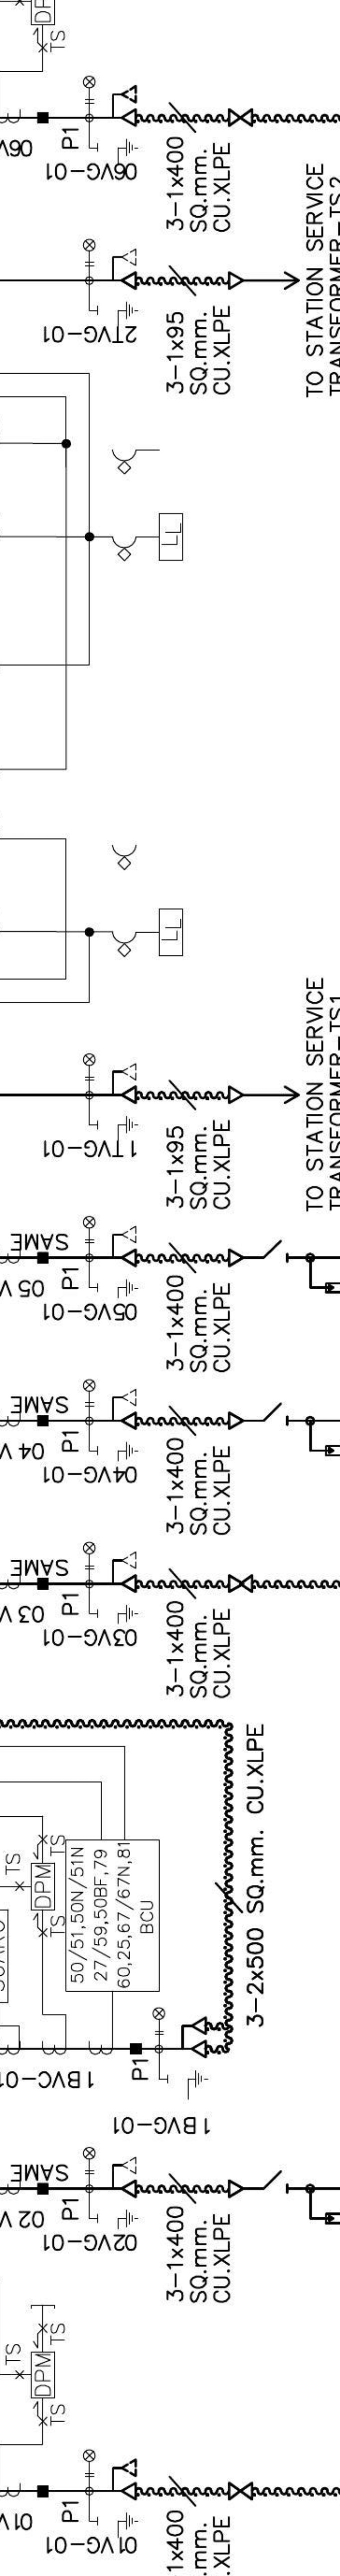22_gs: (166, 2068, 209, 2101), (95, 2510, 138, 2538), (95, 1115, 138, 1142), (97, 138, 140, 164), (97, 302, 140, 327), (95, 2208, 138, 2231), (95, 1603, 138, 1625), (95, 1441, 138, 1462), (95, 1280, 138, 1299)
22_ll: (82, 2146, 97, 2175), (82, 1541, 97, 1571), (82, 1216, 97, 1245), (82, 1051, 97, 1081), (82, 238, 97, 268), (82, 76, 97, 105), (82, 2449, 97, 2477), (153, 2006, 166, 2035), (82, 1378, 95, 1408)
DPM: (30, 1861, 56, 1912), (30, 2351, 56, 2400)
LL: (158, 907, 186, 958), (158, 511, 184, 562)
terminator_double: (181, 2016, 207, 2060)
terminator_single: (227, 269, 245, 291), (227, 1084, 245, 1106), (227, 1247, 245, 1268), (227, 1410, 245, 1431), (227, 2178, 245, 2200)
terminator_splicing_kits: (227, 2481, 253, 2500), (227, 1574, 253, 1594), (228, 108, 255, 128)
terminator_w_future: (110, 2458, 138, 2502), (110, 1549, 138, 1594), (110, 1387, 138, 1431), (110, 1061, 138, 1106), (110, 246, 138, 291), (110, 2155, 138, 2198), (110, 1226, 138, 1268), (112, 84, 138, 128)
